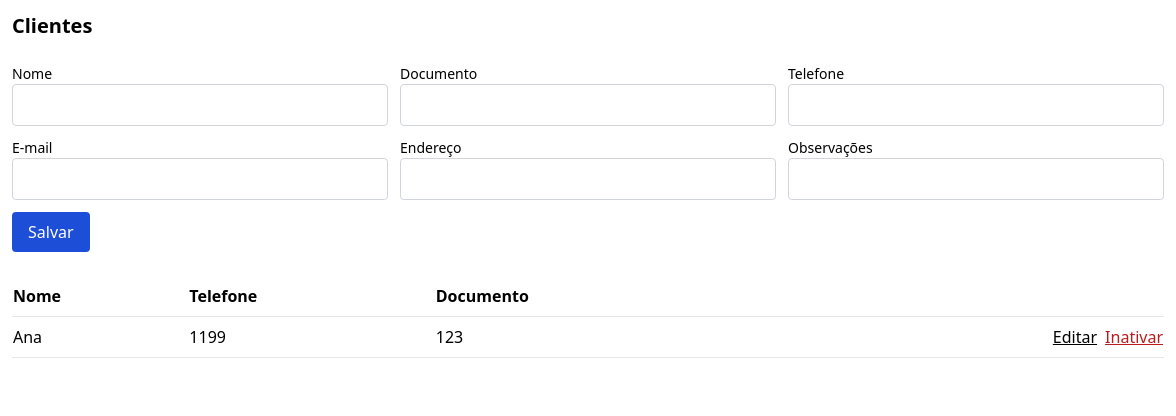
Test: ClientesPage › cria cliente com payload aparado e atualiza a lista
Expected: the text "Ana" is shown, [12,316,188,358]
Type "  Bia  " into the field labelled "Nome". click: (200, 105)
box: [12,84,388,126]
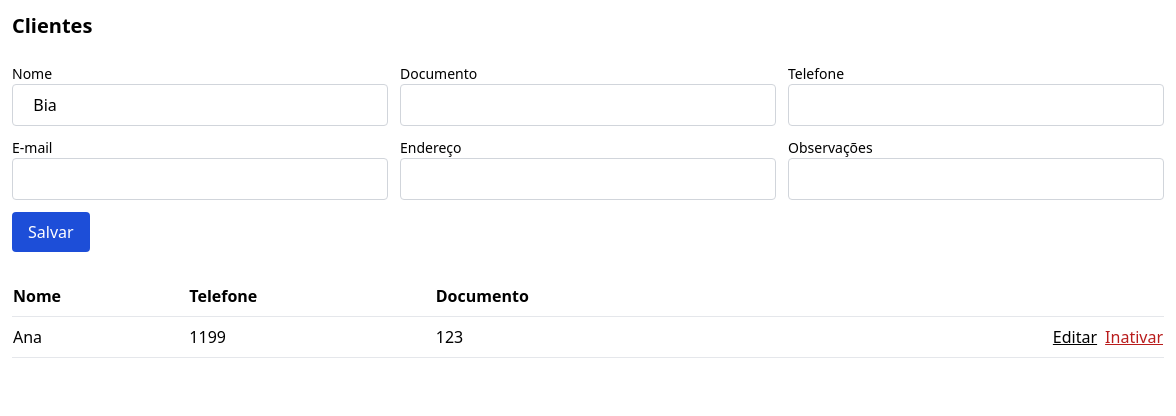
Type "11 9" into the field labelled "Telefone". click: (976, 105)
box: [788,84,1164,126]
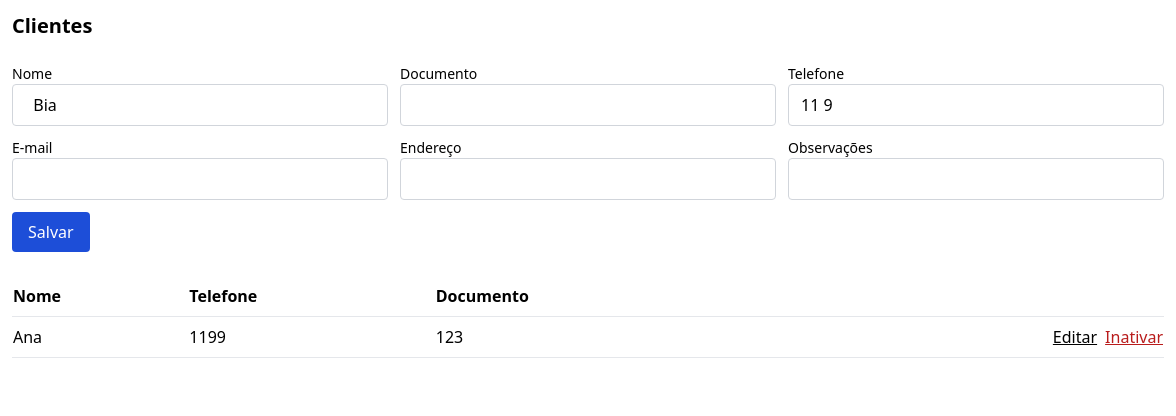
Click the button "Salvar". click: (51, 232)
box: [12,212,90,252]
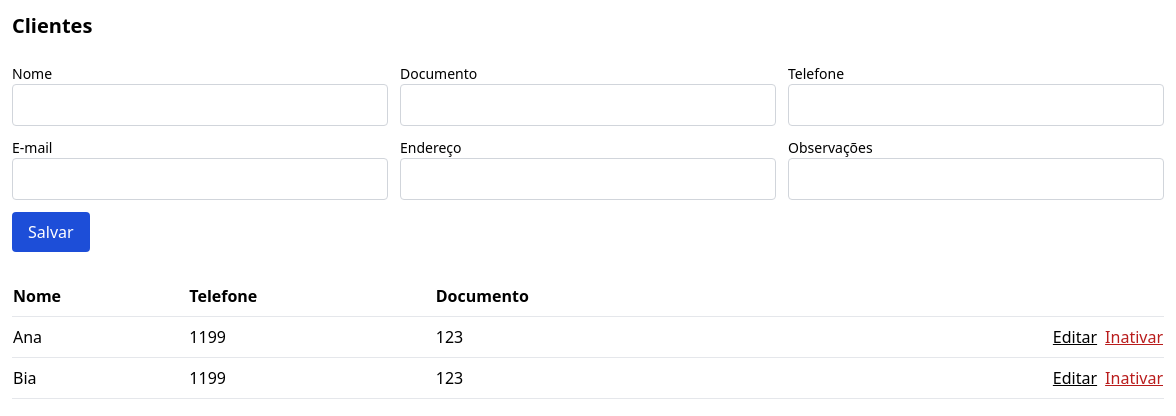
Result: the text "Bia" is shown at [12,358,188,398]
